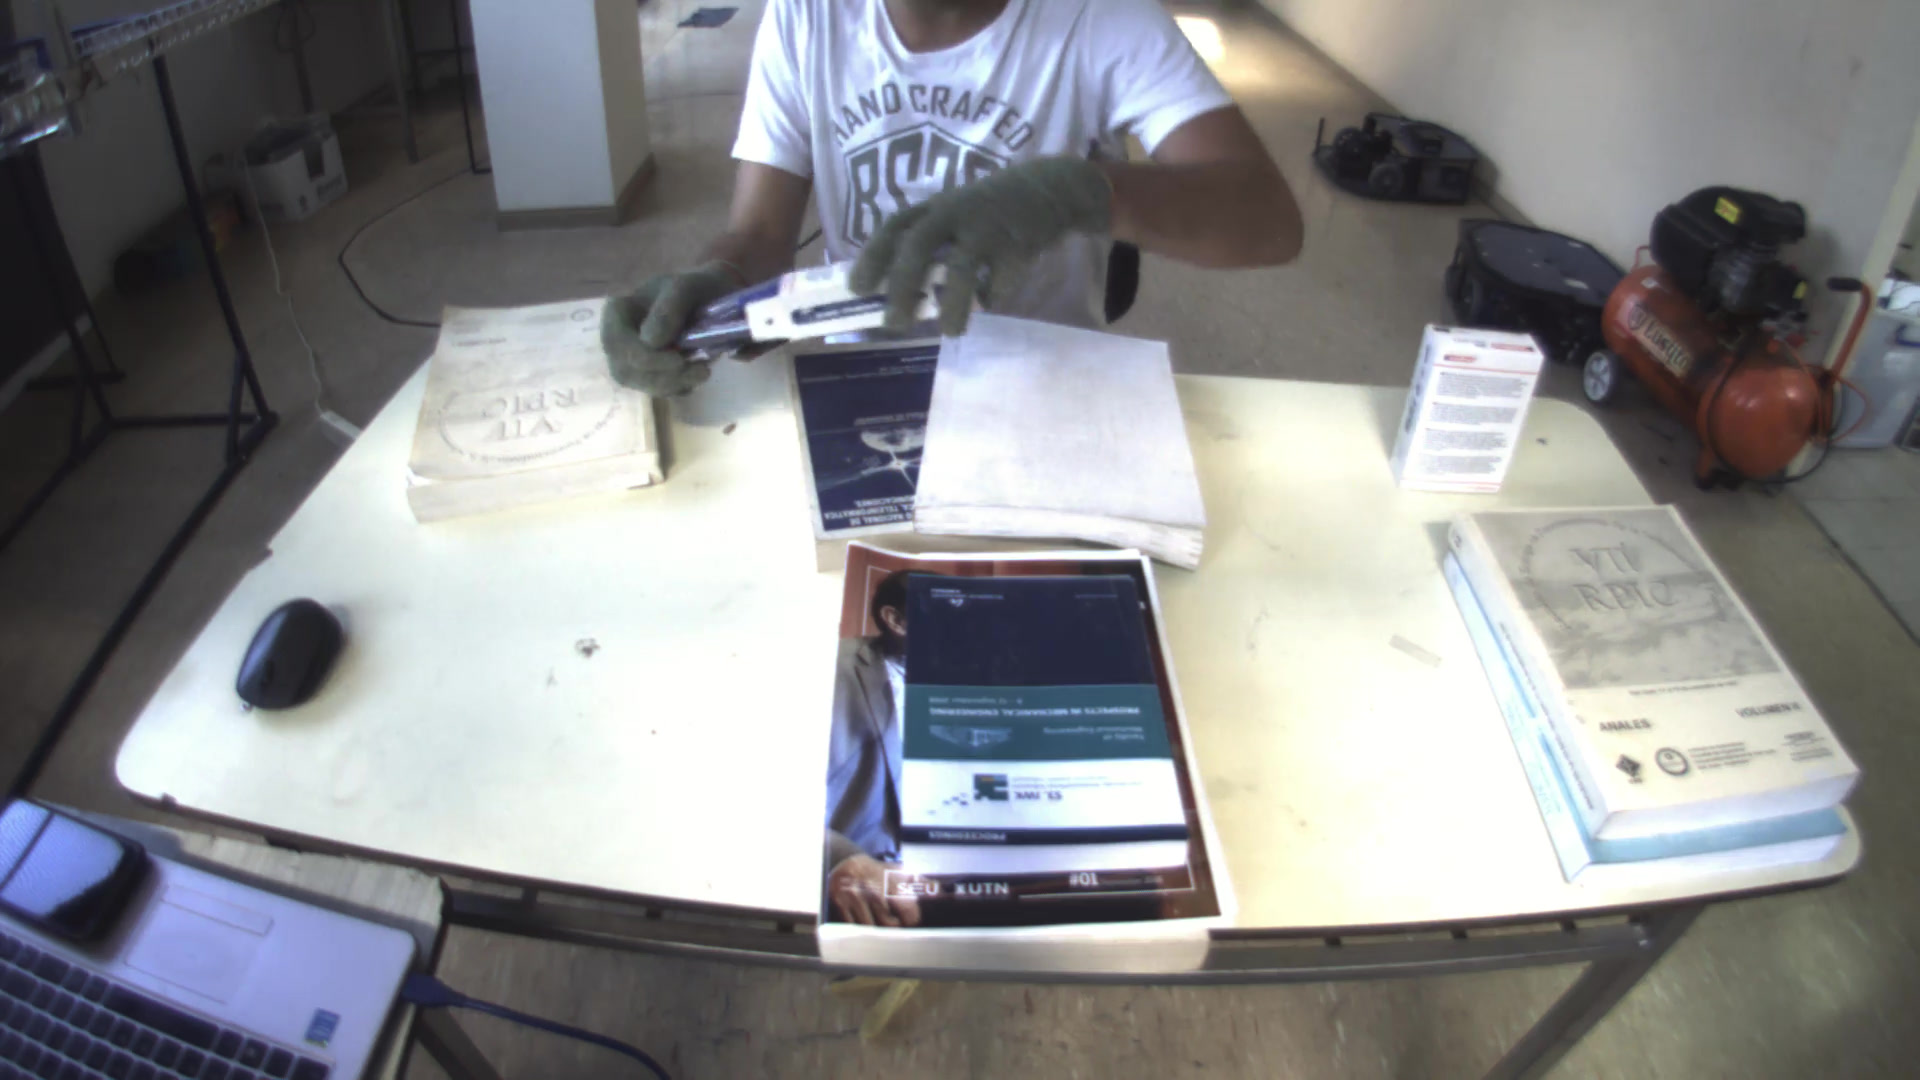hand: (847, 160, 1116, 338), (584, 258, 728, 401)
